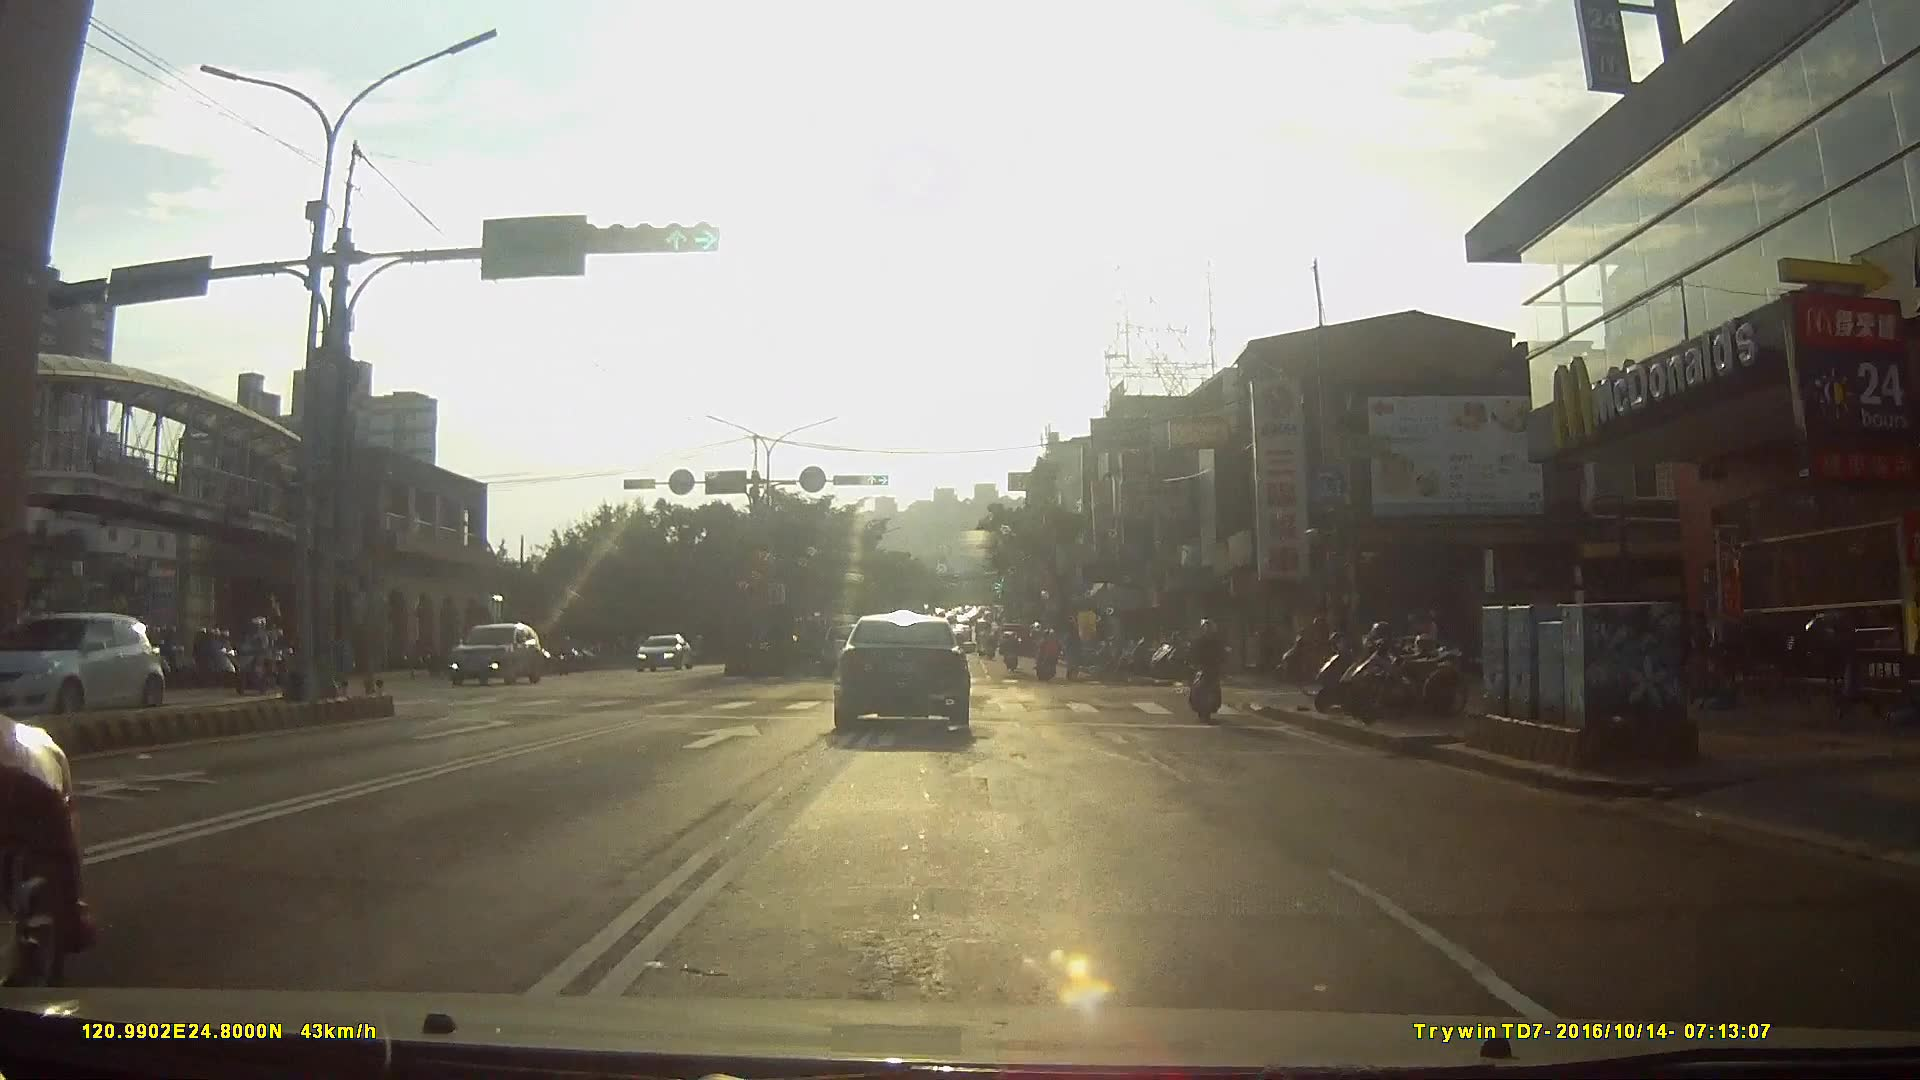rider: (1189, 612, 1234, 722), (230, 617, 287, 696), (112, 626, 177, 693), (219, 630, 278, 689), (1034, 627, 1062, 682), (1002, 631, 1022, 675)
vehicle: (831, 608, 982, 744), (20, 610, 177, 725), (449, 622, 544, 693), (635, 635, 696, 674)
